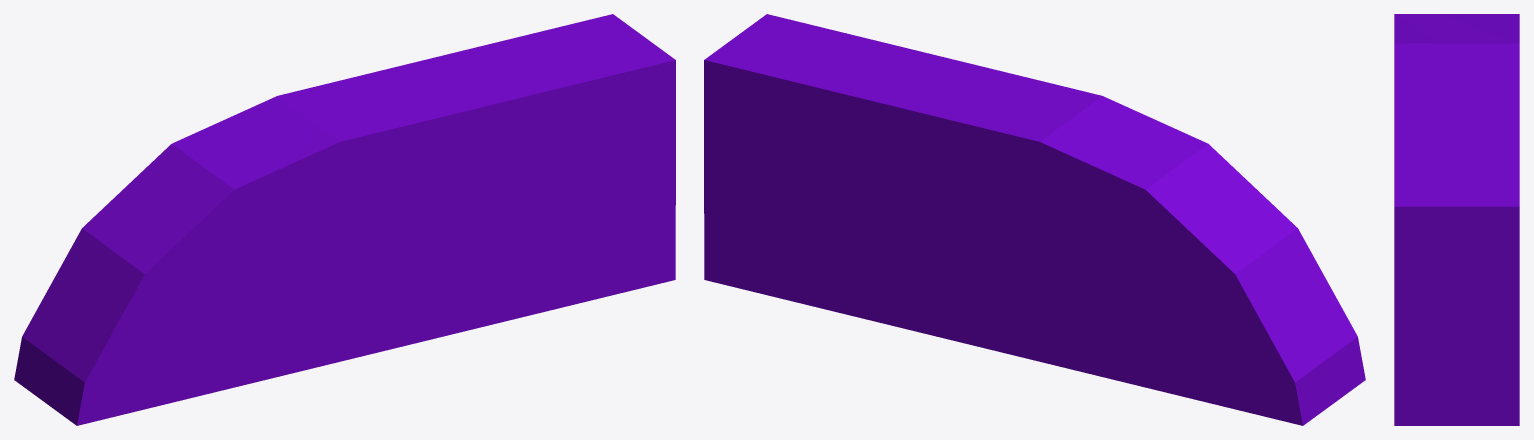
3 views of the same model, side by side, from view 1: azimuth 30°, elevation 25°; view 2: azimuth 150°, elevation 25°; view 3: azimuth 270°, elevation 25° (orthographic).
Size of the model in its own units: 1.41 by 0.4942 by 0.256.
